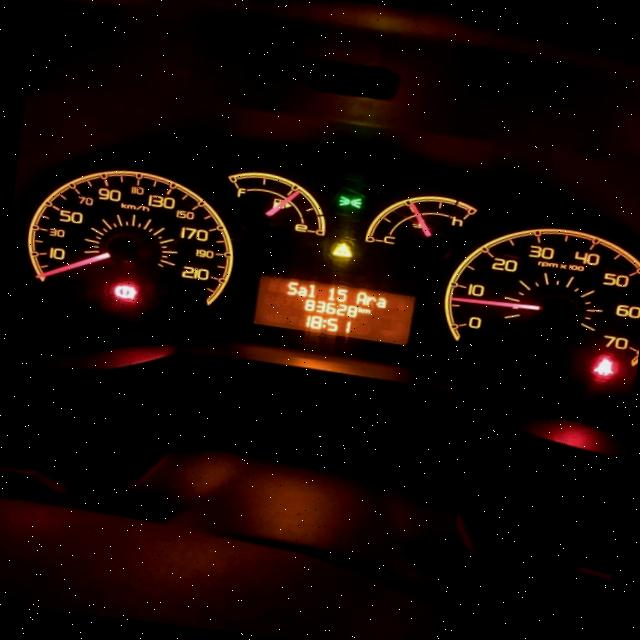odometer: (252, 273, 416, 346)
